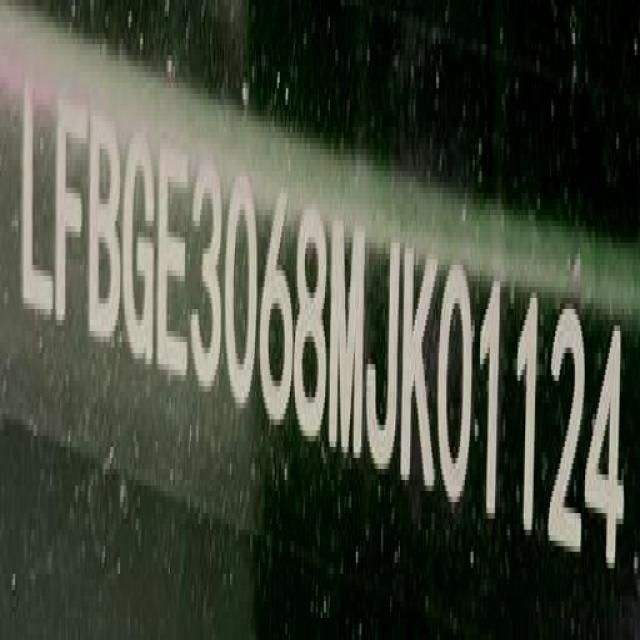0: (436, 251, 474, 521), (223, 159, 260, 413)
1: (513, 272, 540, 544), (479, 264, 504, 531)
2: (549, 296, 584, 564)
3: (189, 154, 225, 400)
4: (585, 321, 628, 580)
6: (261, 186, 294, 425)
8: (293, 206, 330, 444)
B: (88, 118, 123, 352)
E: (155, 135, 190, 392)
F: (54, 96, 88, 356)
G: (121, 135, 158, 370)
J: (364, 235, 399, 490)
K: (401, 227, 437, 501)
L: (16, 71, 54, 327)
M: (328, 214, 365, 464)
